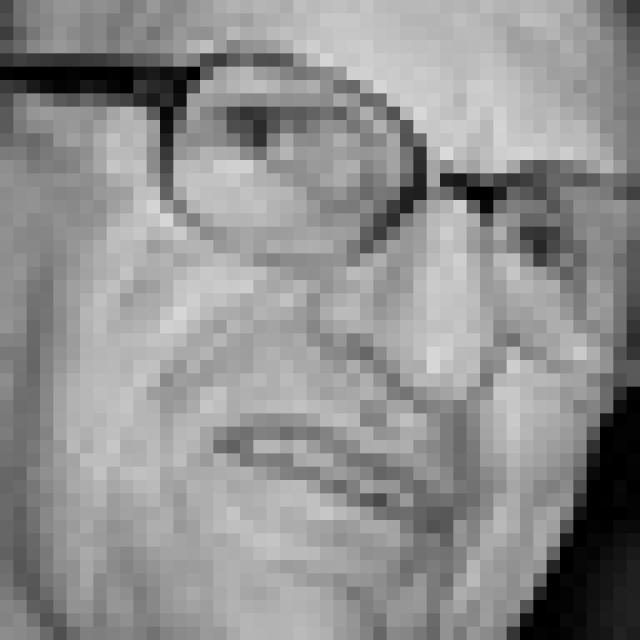disgust: (90, 0, 640, 622)
